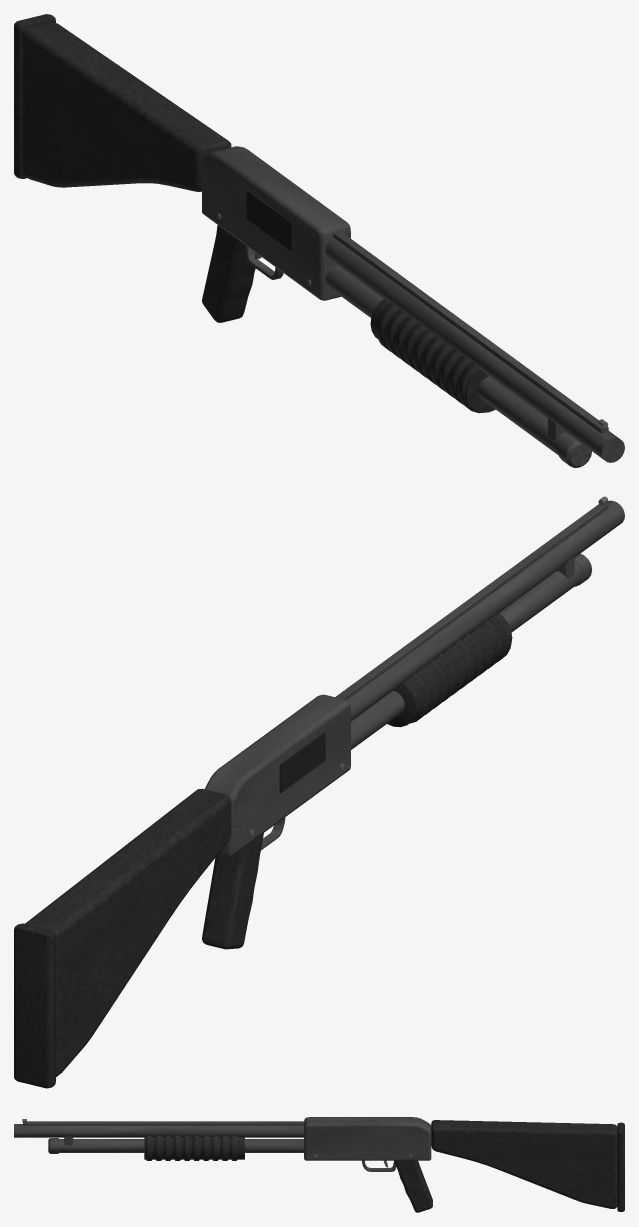
The model's file is shotgun.glb.
3 views of the same model, one above another, from view 1: azimuth 30°, elevation 25°; view 2: azimuth 150°, elevation 25°; view 3: azimuth 270°, elevation 25° (orthographic). The views are drawn at different scales.
Visible parts, largest first — view 1: model, pump; view 2: model, pump; view 3: model, pump.
Boxes of the visible parts, bbox=[...] form: model: bbox=[14, 14, 624, 467]; pump: bbox=[370, 299, 495, 413]; model: bbox=[14, 496, 624, 1088]; pump: bbox=[387, 613, 512, 727]; model: bbox=[14, 1117, 624, 1212]; pump: bbox=[144, 1136, 244, 1160].
Size of the model in its own units: 0.0516 by 0.1698 by 1.03.
5 materials, 4 textured.
